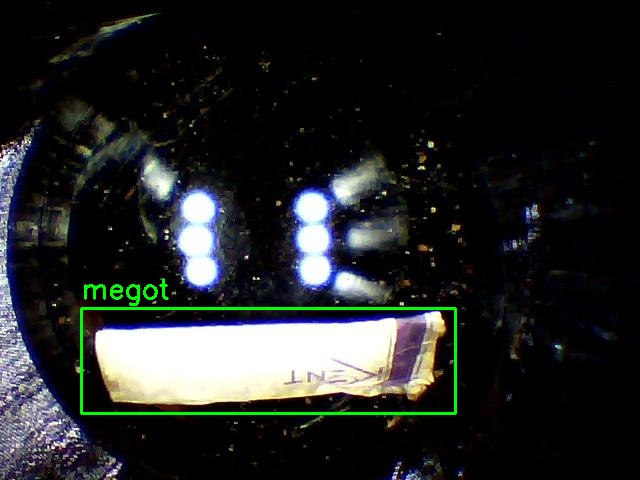megot: (81, 308, 455, 413)
